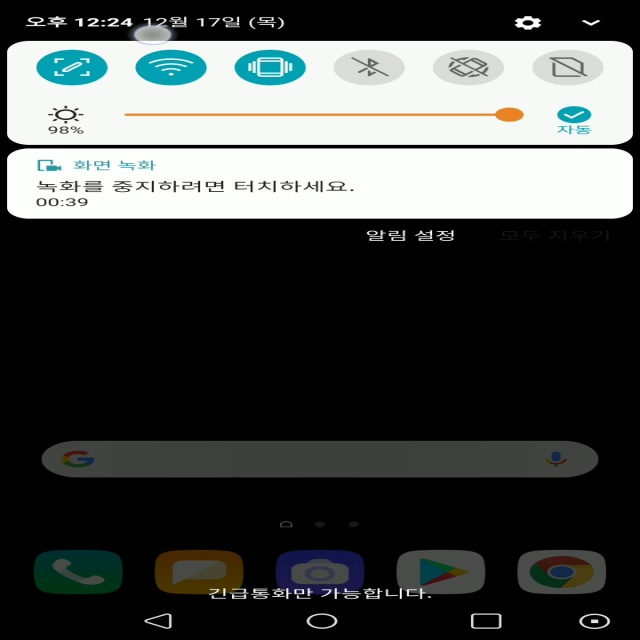Cursor: (130, 24, 175, 47)
